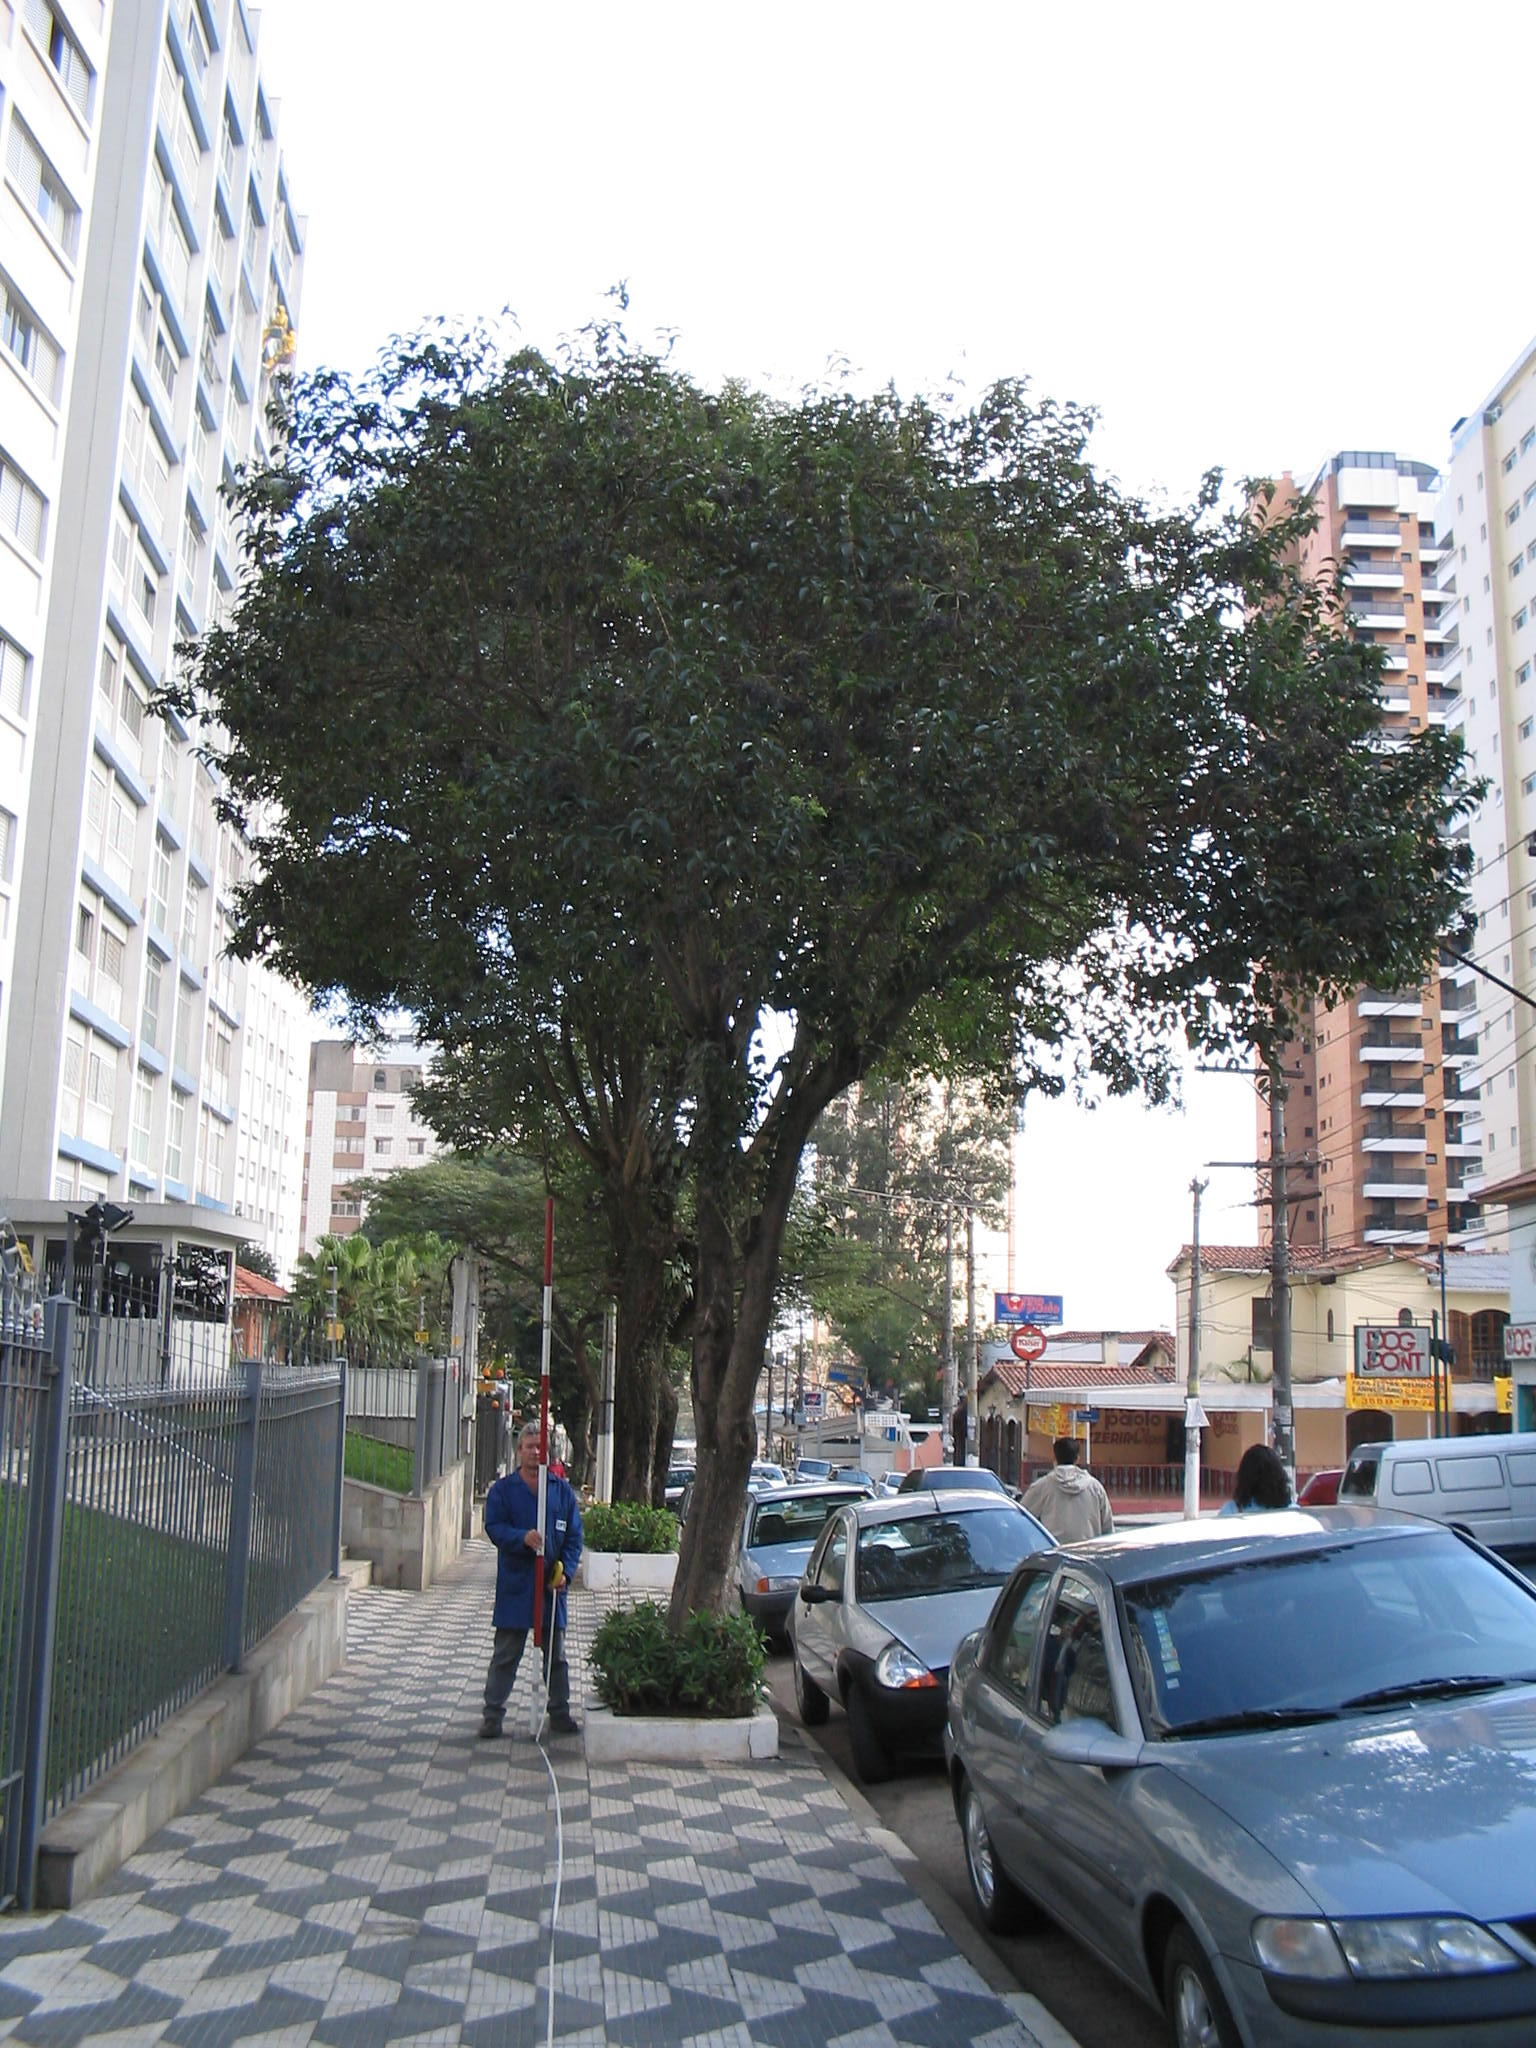crown: (148, 279, 1497, 1195)
stem: (632, 1445, 779, 1711)
stick: (520, 1197, 574, 1737)
tree: (136, 274, 1505, 1721)
